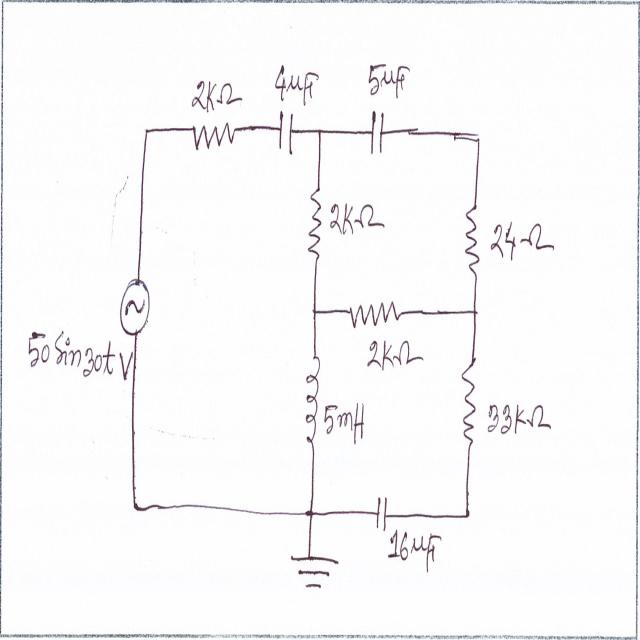ac_current: (118, 274, 156, 338)
capacitor: (368, 104, 390, 157), (278, 104, 296, 161), (375, 492, 388, 538)
ground: (292, 546, 338, 594)
inductor: (305, 350, 322, 450)
resistor: (348, 298, 403, 333), (190, 116, 236, 153), (304, 182, 324, 264), (460, 354, 478, 444), (464, 204, 482, 286)
